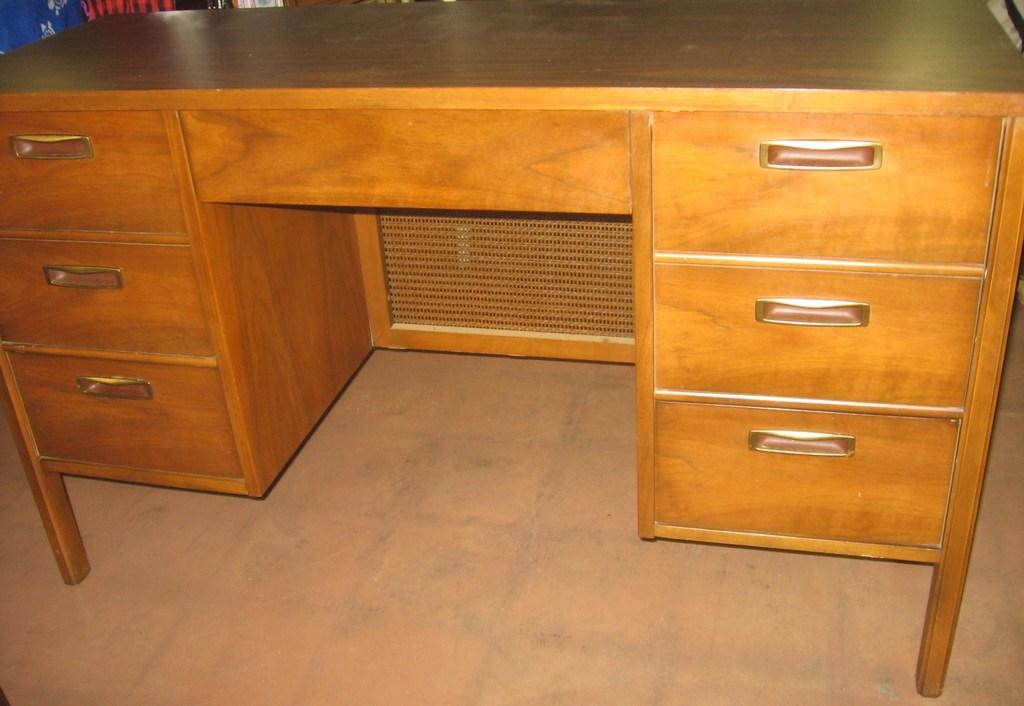cabinet_door: (646, 113, 1000, 266), (652, 262, 982, 420), (650, 401, 954, 550), (6, 344, 246, 487), (0, 240, 230, 350), (0, 120, 218, 234)
handle: (756, 132, 884, 174), (752, 299, 882, 337), (740, 430, 862, 464), (39, 258, 132, 293), (83, 372, 161, 407), (12, 139, 94, 164)
